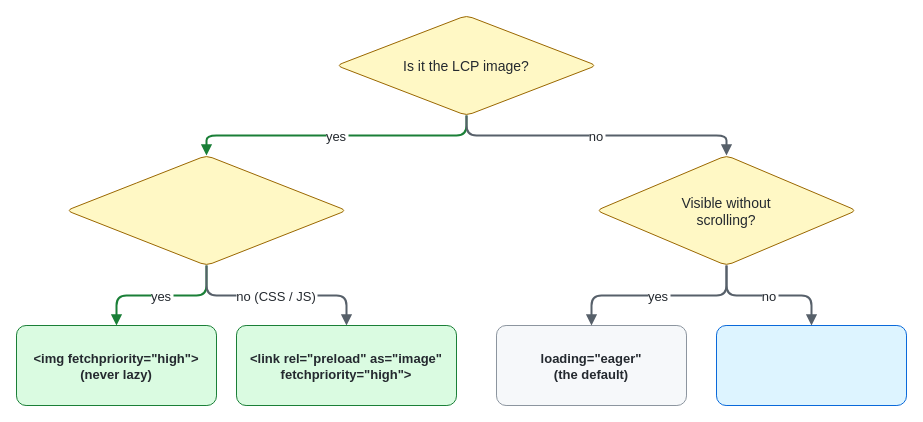
The diagram is 923 pixels wide and 422 high, and some of its shapes have lost their labels. Here are the shapes that lost their labels. From the top down, the centre of each, then its label:
point 206,210: Is it in the server-rendered HTML?
point 811,365: loading="lazy"
